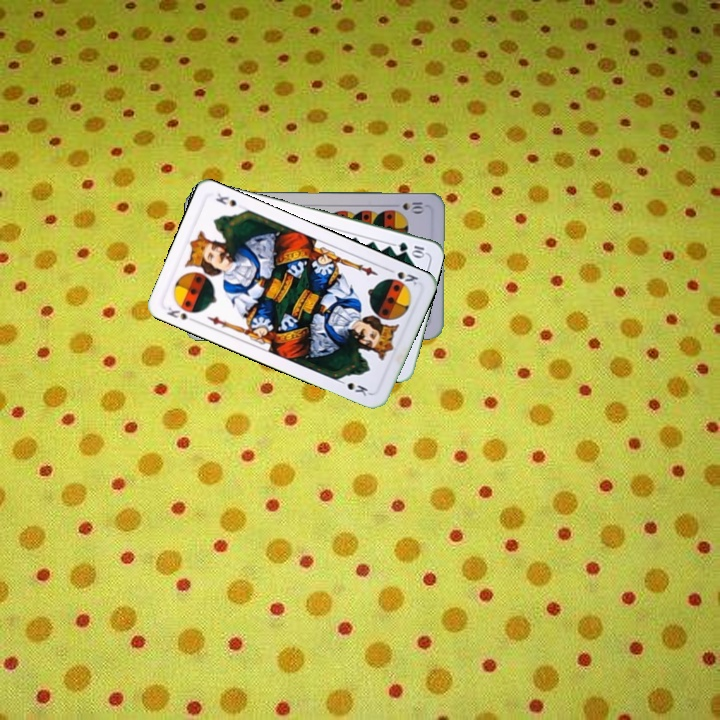G10: (395, 238, 429, 259)
S10: (388, 198, 427, 214)
SK: (383, 264, 422, 288), (163, 302, 200, 324)
